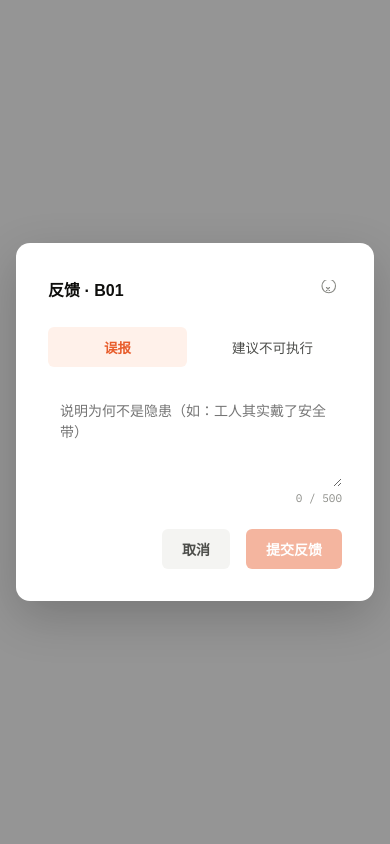
Scenario: FeedbackModal › 提交失败：错误文案出现，modal 不关
Type "测试" into the text box named "反馈描述" at (195, 439), box [48,391,342,487]
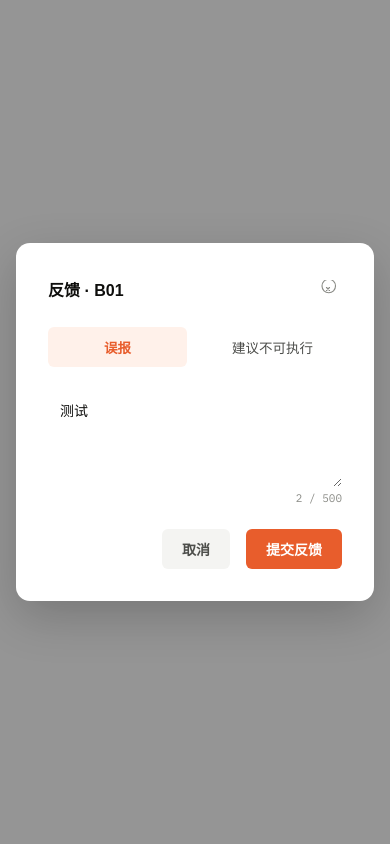
Click the button "提交反馈" at (294, 549), box [246,529,342,569]
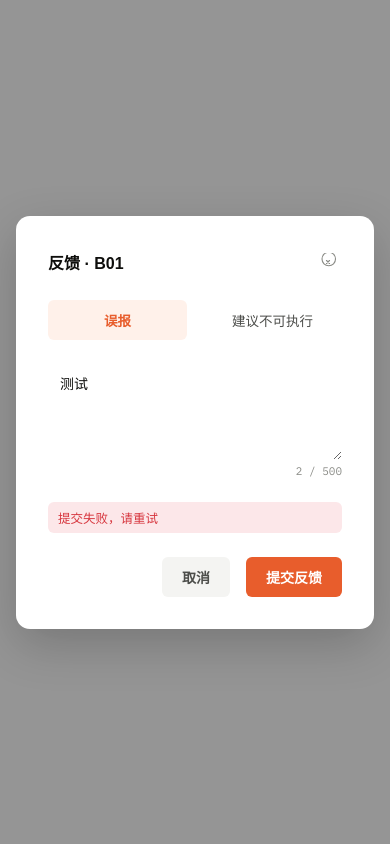
Now the message "提交失败，请重试" is shown, box [48,502,342,532]
